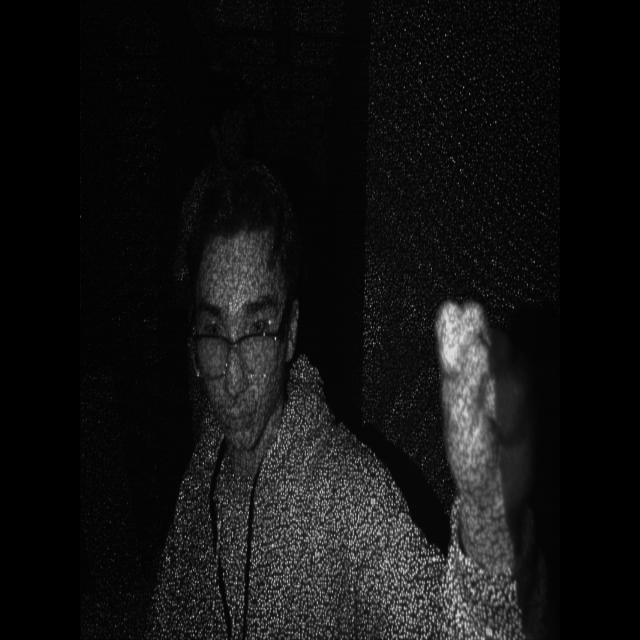S: (420, 273, 541, 490)
